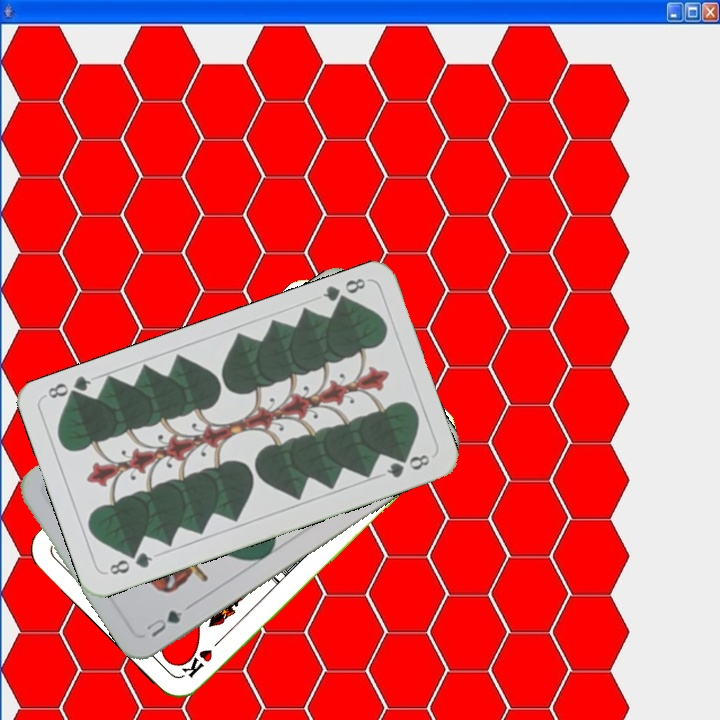G8: (319, 273, 368, 310), (105, 548, 156, 578)
GU: (142, 601, 193, 640)
HK: (178, 632, 227, 681)
